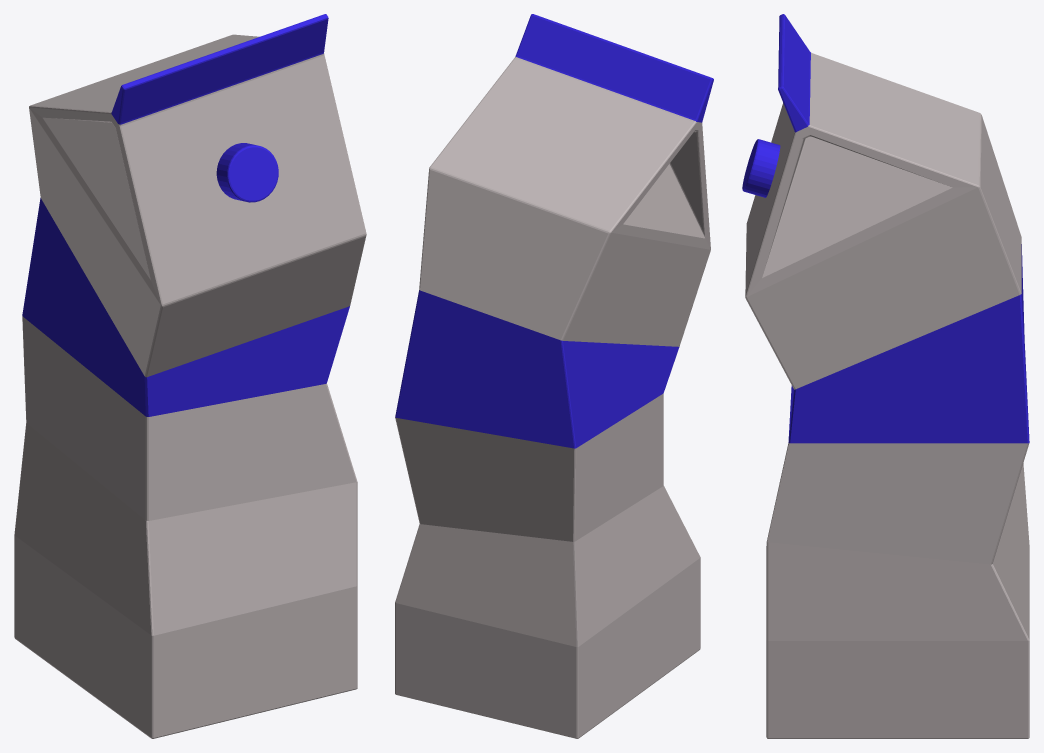
The model's file is Carton of Milk Redone.fbx.
The picture shows the model from 3 angles, left to right: view 1: azimuth 30°, elevation 25°; view 2: azimuth 150°, elevation 25°; view 3: azimuth 270°, elevation 25°; orthographic projection. The views are drawn at different scales.
Visible parts, largest first — view 1: Cube.001; view 2: Cube.001; view 3: Cube.001.
Part boxes in pixels (bbox=[...]): Cube.001: bbox=[14, 14, 366, 738]; Cube.001: bbox=[395, 14, 713, 738]; Cube.001: bbox=[742, 14, 1029, 738].
Bounding box in the file's own units: 96.03 × 264 × 107.
